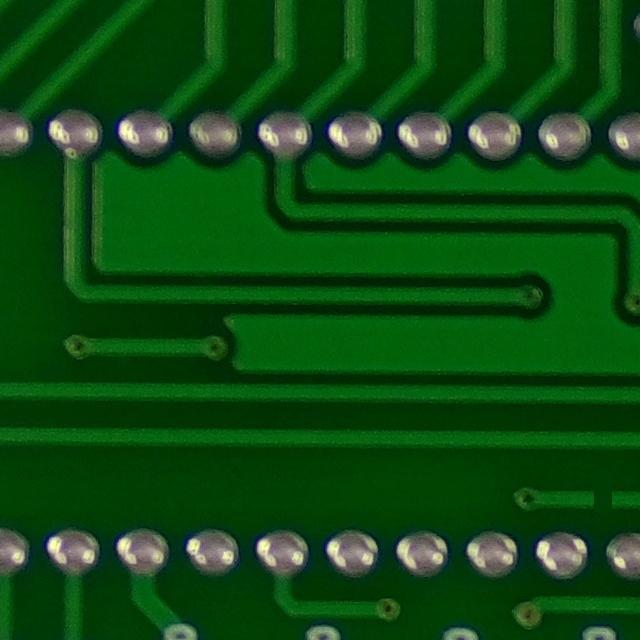open_circuit: (583, 478, 620, 516)
